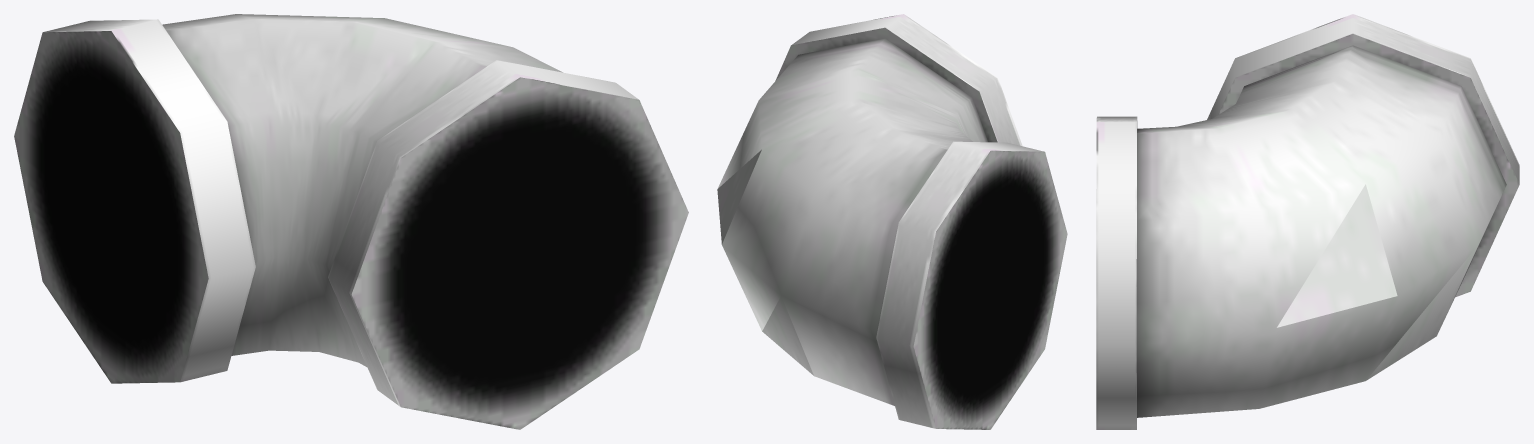
File: Lower_Pipe_Big_Elbow_32.FBX
3 renders of one model, left to right at view 1: azimuth 30°, elevation 25°; view 2: azimuth 150°, elevation 25°; view 3: azimuth 270°, elevation 25°, orthographic. The views are drawn at different scales.
Visible parts, largest first — view 1: Lower_Pipe_Big_Elbow_32; view 2: Lower_Pipe_Big_Elbow_32; view 3: Lower_Pipe_Big_Elbow_32.
Boxes of the visible parts, <box> form: Lower_Pipe_Big_Elbow_32: <box>14,14,688,429</box>; Lower_Pipe_Big_Elbow_32: <box>717,14,1067,429</box>; Lower_Pipe_Big_Elbow_32: <box>1096,14,1519,429</box>.
Bounding box in the file's own units: 26.4 × 20.81 × 26.42.
1 material, 1 textured.
